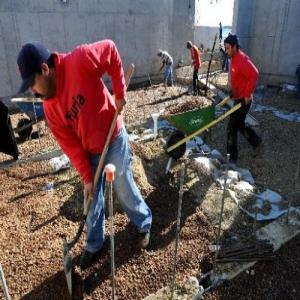blue: (188, 40, 193, 51)
none: (19, 40, 55, 98), (225, 34, 240, 60)
white: (158, 48, 164, 59)
